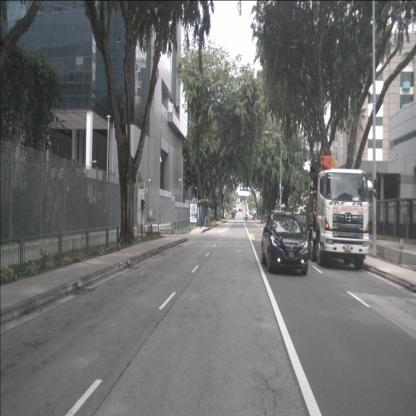human-pedestrian-adult: (198, 210, 202, 229), (245, 214, 248, 223)
vehicle-car: (261, 213, 309, 276)
vehicle-truck: (281, 168, 369, 270)
